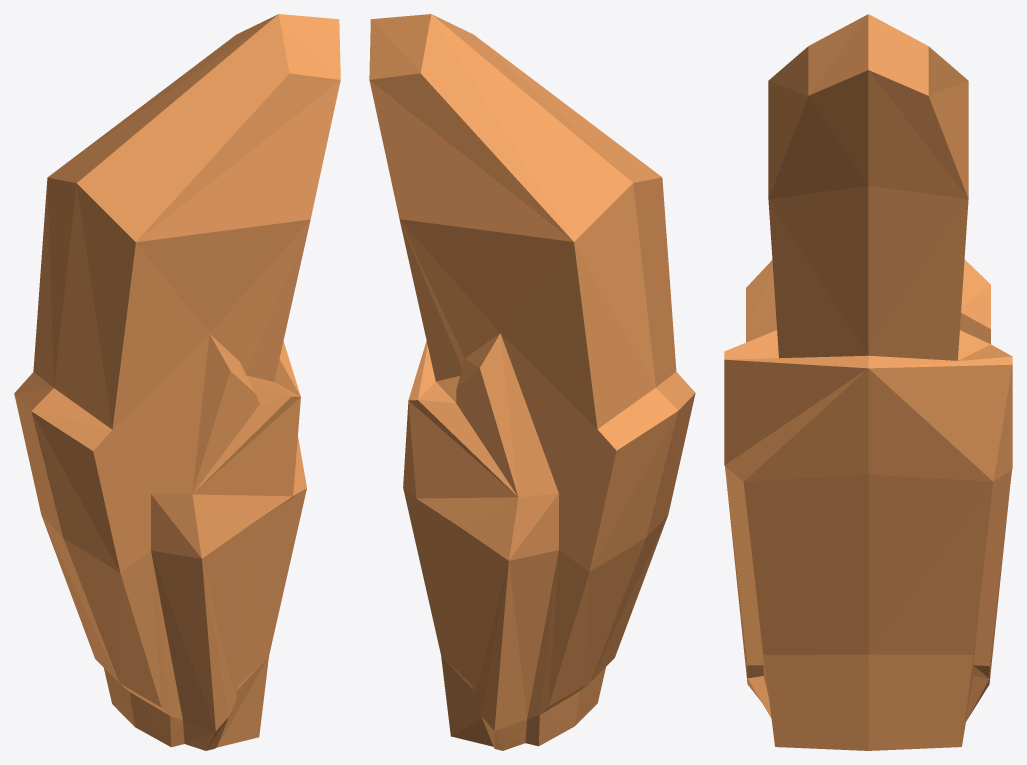
Rendered from Rock_Large_Canyon_Eroded_20.FBX.
The picture shows the model from 3 angles, left to right: view 1: azimuth 30°, elevation 25°; view 2: azimuth 150°, elevation 25°; view 3: azimuth 270°, elevation 25°; orthographic projection. The views are drawn at different scales.
Parts seen in each view (by area): view 1: Rock_Large_Canyon_Eroded_20; view 2: Rock_Large_Canyon_Eroded_20; view 3: Rock_Large_Canyon_Eroded_20.
Boxes of the visible parts, x1=… form: Rock_Large_Canyon_Eroded_20: x1=14, y1=14, x2=340, y2=750; Rock_Large_Canyon_Eroded_20: x1=369, y1=14, x2=695, y2=750; Rock_Large_Canyon_Eroded_20: x1=724, y1=14, x2=1012, y2=750.
Size of the model in its own units: 6283 by 13217 by 4504.
